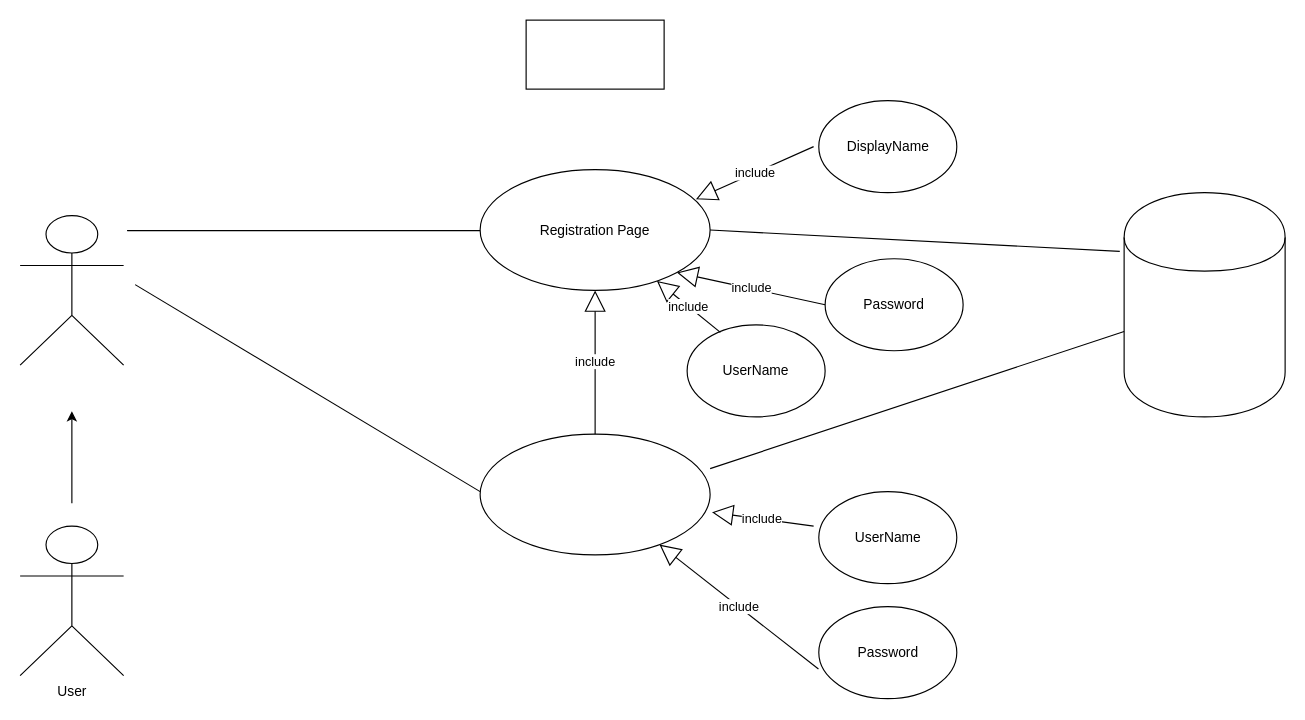
This 1305x720 diagram has some shape labels left out. The centre of each missing label's shape, as x and y in pixels:
"Log In and Registration progress" goes at pixel 594 54.
"Log In Page" goes at pixel 594 494.
"Server" goes at pixel 1204 304.
"Visitor" goes at pixel 71 289.
